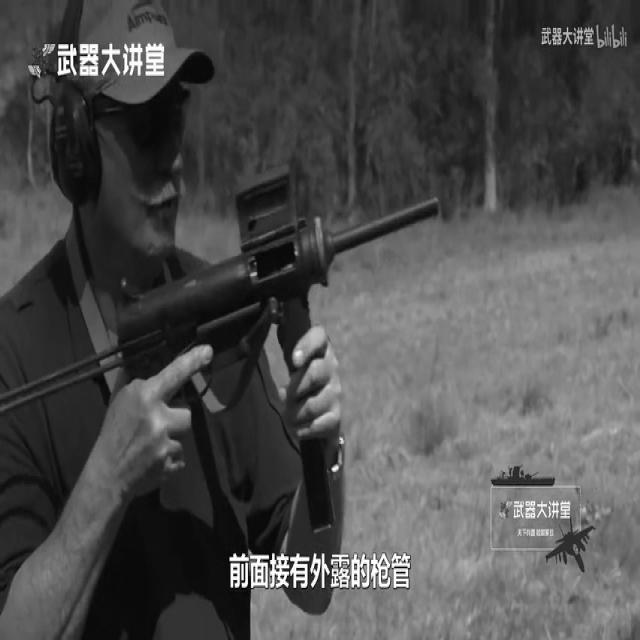Sub-machine-gun: (17, 83, 481, 579)
